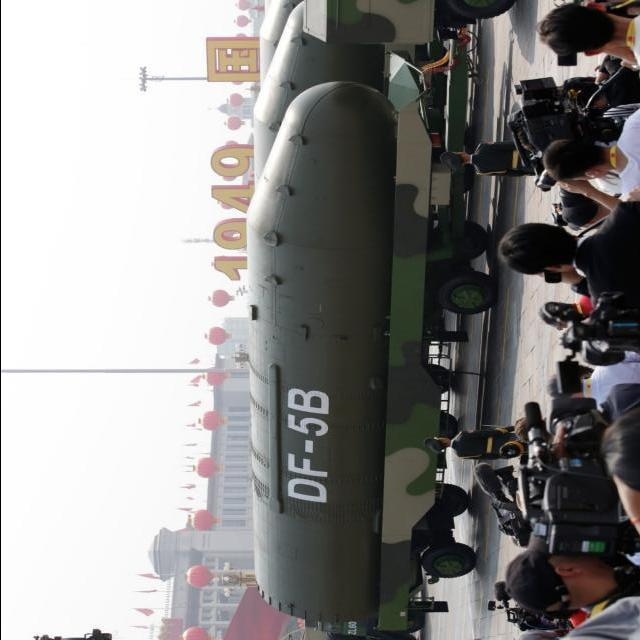Missile: (237, 78, 391, 635)
